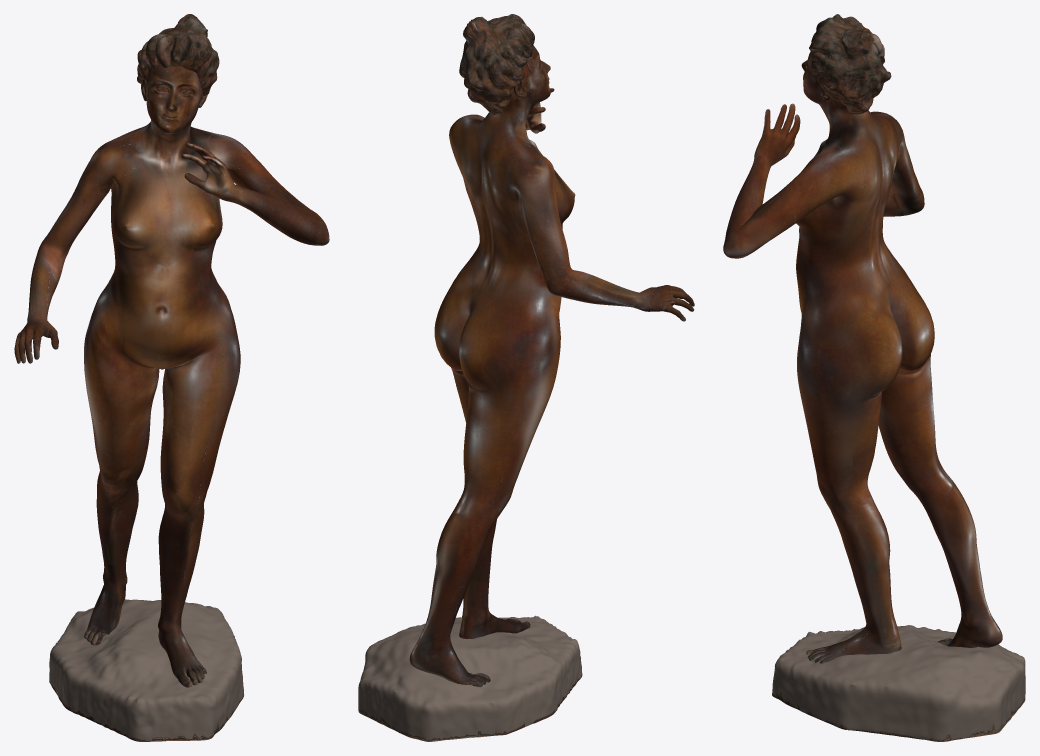
The model's file is naisfiguur.glb.
3 views of the same model, side by side, from view 1: azimuth 30°, elevation 25°; view 2: azimuth 150°, elevation 25°; view 3: azimuth 270°, elevation 25° (orthographic). The views are drawn at different scales.
Visible parts, largest first — view 1: Mesh; view 2: Mesh; view 3: Mesh.
Part boxes in pixels (left/top/right/bottom): Mesh: left=14, top=14, right=329, bottom=741; Mesh: left=358, top=14, right=694, bottom=741; Mesh: left=723, top=14, right=1025, bottom=741.
Size of the model in its own units: 0.2488 by 0.5985 by 0.2415.
4 materials, 3 textured.
